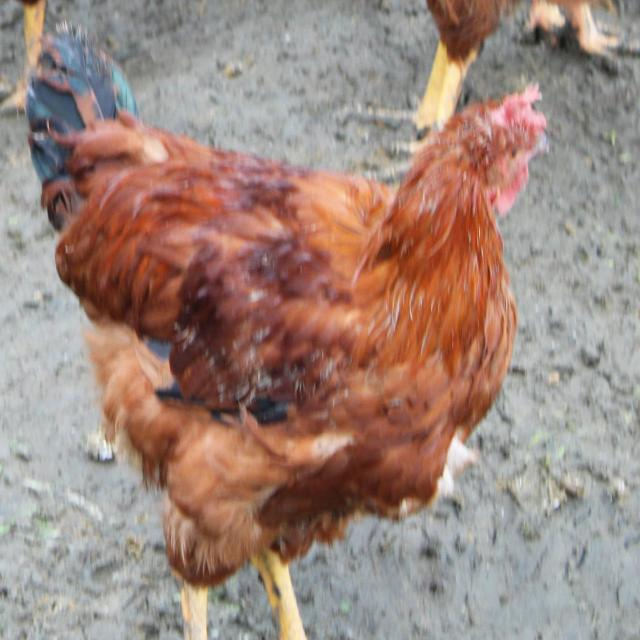cook: (47, 87, 573, 600)
